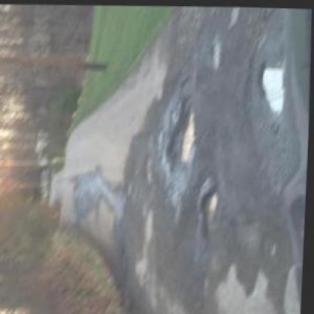Hueco: (163, 97, 198, 170), (254, 57, 288, 116), (288, 190, 308, 255), (200, 185, 224, 234), (206, 37, 220, 67)
